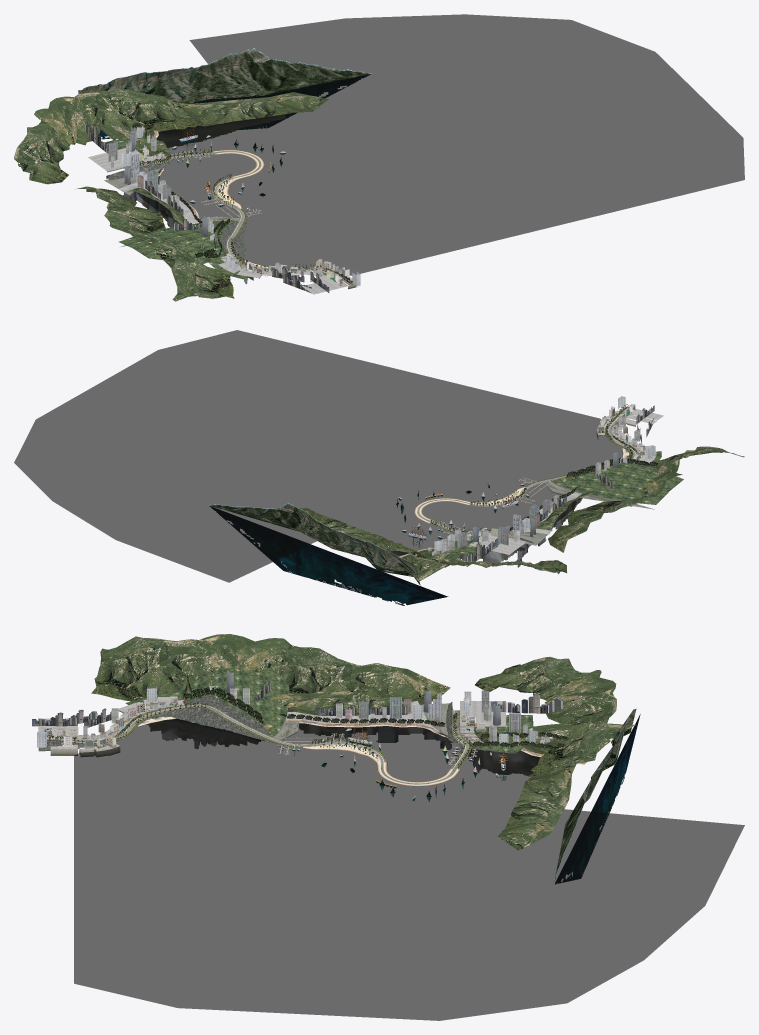
File: stage-beac-t.glb
3 views of the same model, one above another, from view 1: azimuth 30°, elevation 25°; view 2: azimuth 150°, elevation 25°; view 3: azimuth 270°, elevation 25° (orthographic). The views are drawn at different scales.
Parts seen in each view (by area): view 1: part 5, part 1, part 3, env part 1, env part 2, part 4, env part 0, part 0, part 2; view 2: part 5, part 1, part 3, part 4, env part 2, env part 1, env part 0, part 2, part 0; view 3: part 5, part 1, part 3, env part 1, part 2, env part 2, env part 0, part 0, part 4.
Part boxes in pixels (bbox=[...]): part 5: bbox=[137, 14, 744, 275]; part 1: bbox=[14, 48, 371, 301]; part 3: bbox=[85, 122, 360, 293]; env part 1: bbox=[106, 138, 325, 277]; env part 2: bbox=[114, 148, 352, 283]; part 4: bbox=[171, 128, 285, 217]; env part 0: bbox=[130, 149, 347, 281]; part 0: bbox=[123, 149, 351, 285]; part 2: bbox=[126, 126, 352, 284]; part 5: bbox=[14, 330, 623, 582]; part 1: bbox=[209, 406, 744, 605]; part 3: bbox=[428, 396, 655, 566]; part 4: bbox=[396, 477, 546, 543]; env part 2: bbox=[431, 404, 644, 541]; env part 1: bbox=[441, 414, 682, 548]; env part 0: bbox=[414, 408, 635, 532]; part 2: bbox=[432, 406, 658, 531]; part 0: bbox=[414, 407, 632, 537]; part 5: bbox=[74, 718, 744, 1020]; part 1: bbox=[38, 634, 640, 883]; part 3: bbox=[32, 670, 563, 770]; env part 1: bbox=[58, 669, 528, 768]; part 2: bbox=[48, 676, 566, 767]; env part 2: bbox=[44, 691, 484, 767]; env part 0: bbox=[47, 705, 469, 786]; part 0: bbox=[47, 704, 469, 786]; part 4: bbox=[278, 728, 507, 801].
Bounding box in the file's own units: 5986 × 730 × 5103.
Materials: 184 (181 with a texture image).
